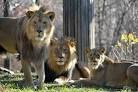lion: (3, 8, 56, 92), (85, 49, 138, 90), (43, 35, 83, 85)
